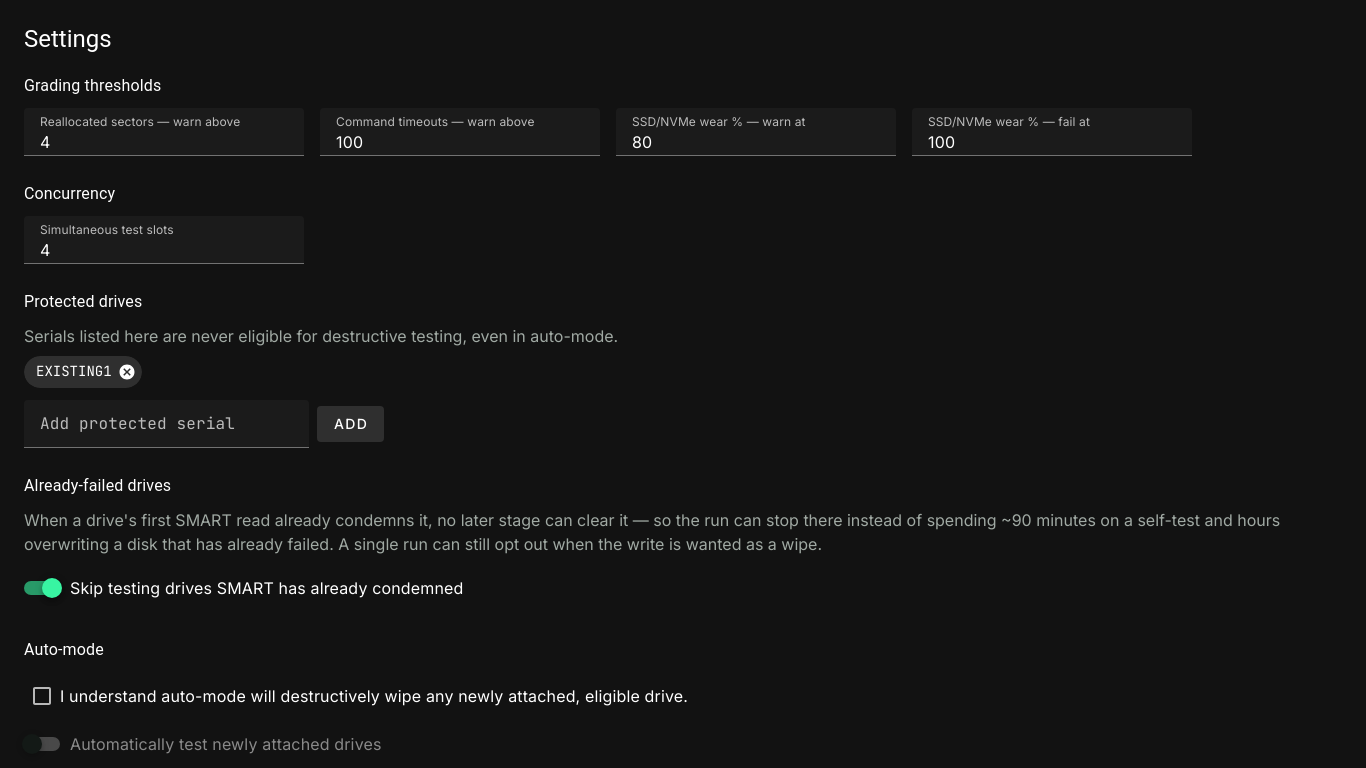
SettingsView › keeps the auto-mode switch disabled until the acknowledgment checkbox is checked
This screenshot has width=1366, height=768.
Expected: the checkbox with id "auto-mode-toggle" is disabled, [70,734,382,754]
Click the checkbox with id "auto-mode-ack": [374, 696] box [60,686,688,706]
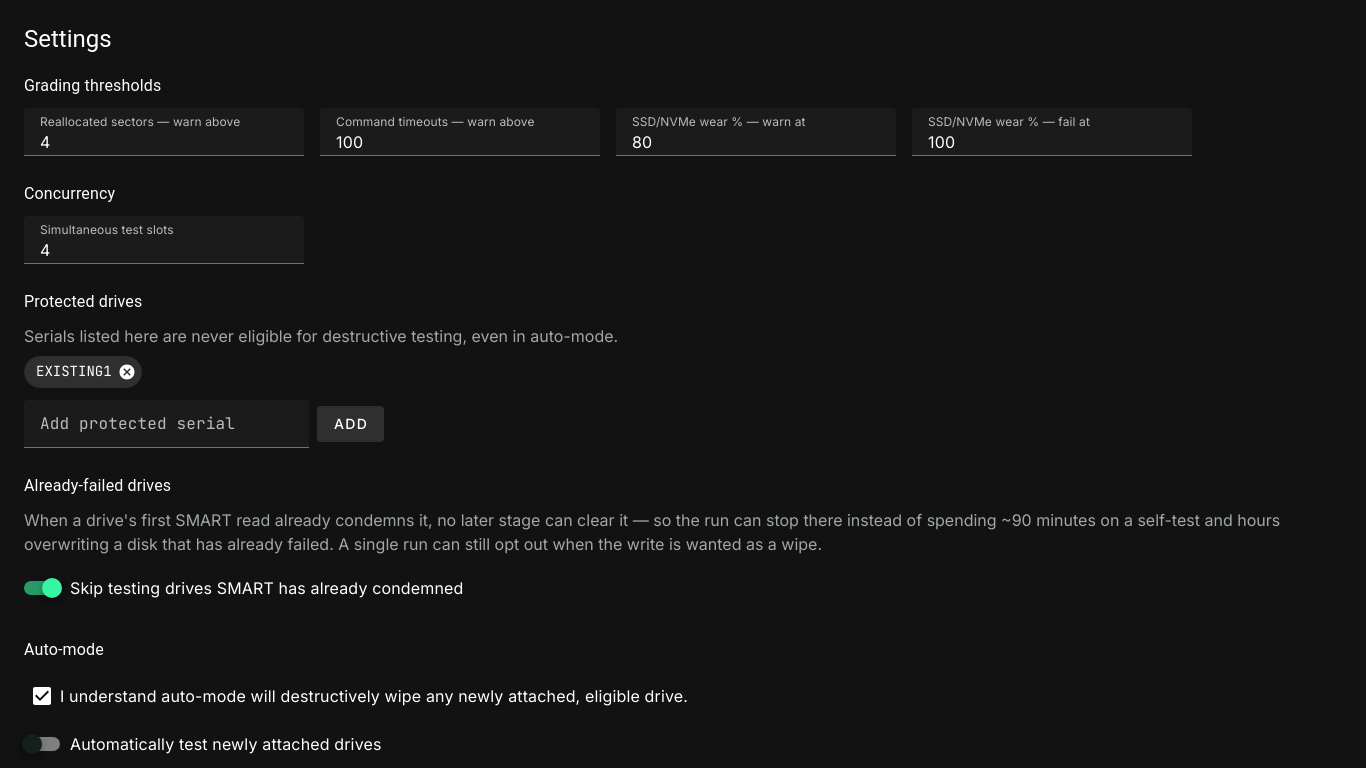
Result: the checkbox with id "auto-mode-toggle" is enabled at [70,734,382,754]
